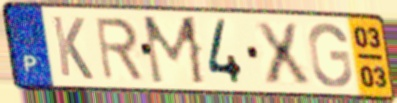4: (205, 16, 246, 88)
G: (306, 21, 355, 89)
K: (49, 13, 96, 82)
M: (140, 14, 209, 88)
R: (92, 15, 147, 83)
X: (251, 20, 313, 87)
